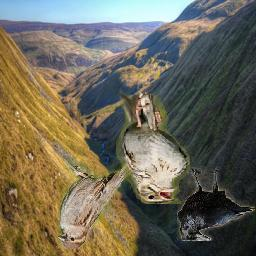Crow: (177, 167, 255, 242)
Sparrow: (116, 90, 190, 204), (58, 151, 143, 250)
